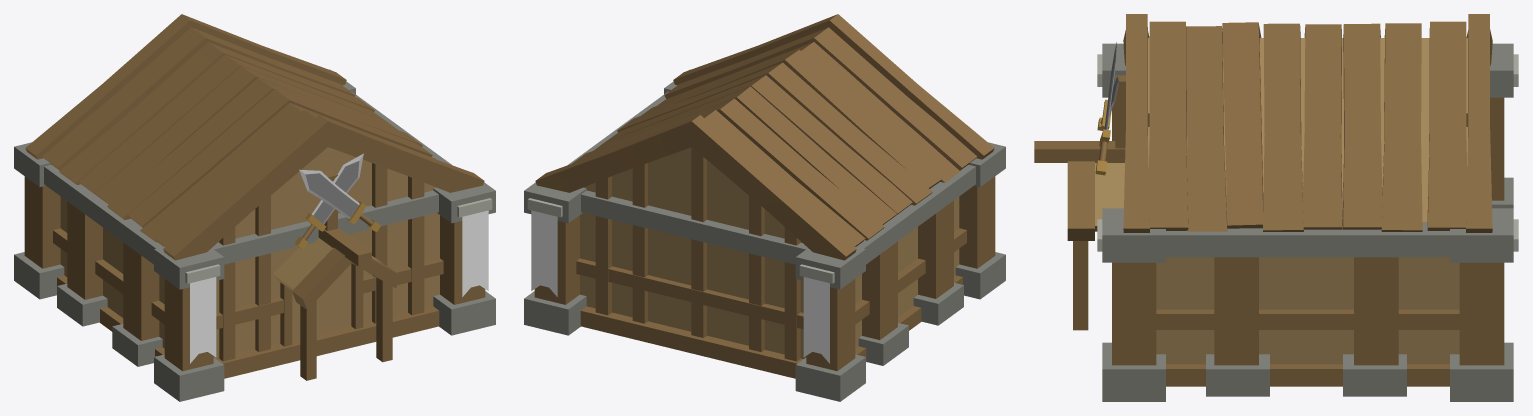
The model's file is barracks.glb.
3 renders of one model, left to right at view 1: azimuth 30°, elevation 25°; view 2: azimuth 150°, elevation 25°; view 3: azimuth 270°, elevation 25°, orthographic. The views are drawn at different scales.
Visible parts, largest first — view 1: Barracks_FirstAge_Level1; view 2: Barracks_FirstAge_Level1; view 3: Barracks_FirstAge_Level1.
Boxes of the visible parts, bbox=[...] form: Barracks_FirstAge_Level1: bbox=[14, 14, 495, 401]; Barracks_FirstAge_Level1: bbox=[524, 14, 1005, 401]; Barracks_FirstAge_Level1: bbox=[1034, 14, 1518, 401].
Size of the model in its own units: 2.72 by 1.93 by 2.9.
